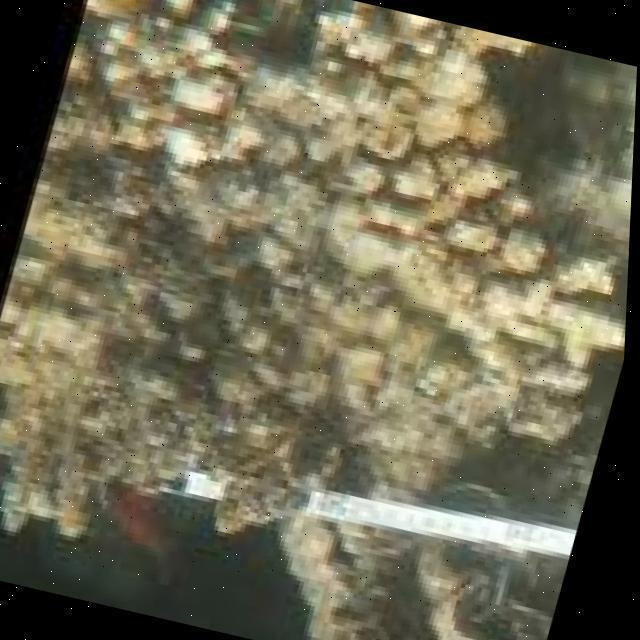Bleached Coral: (157, 0, 260, 177)
